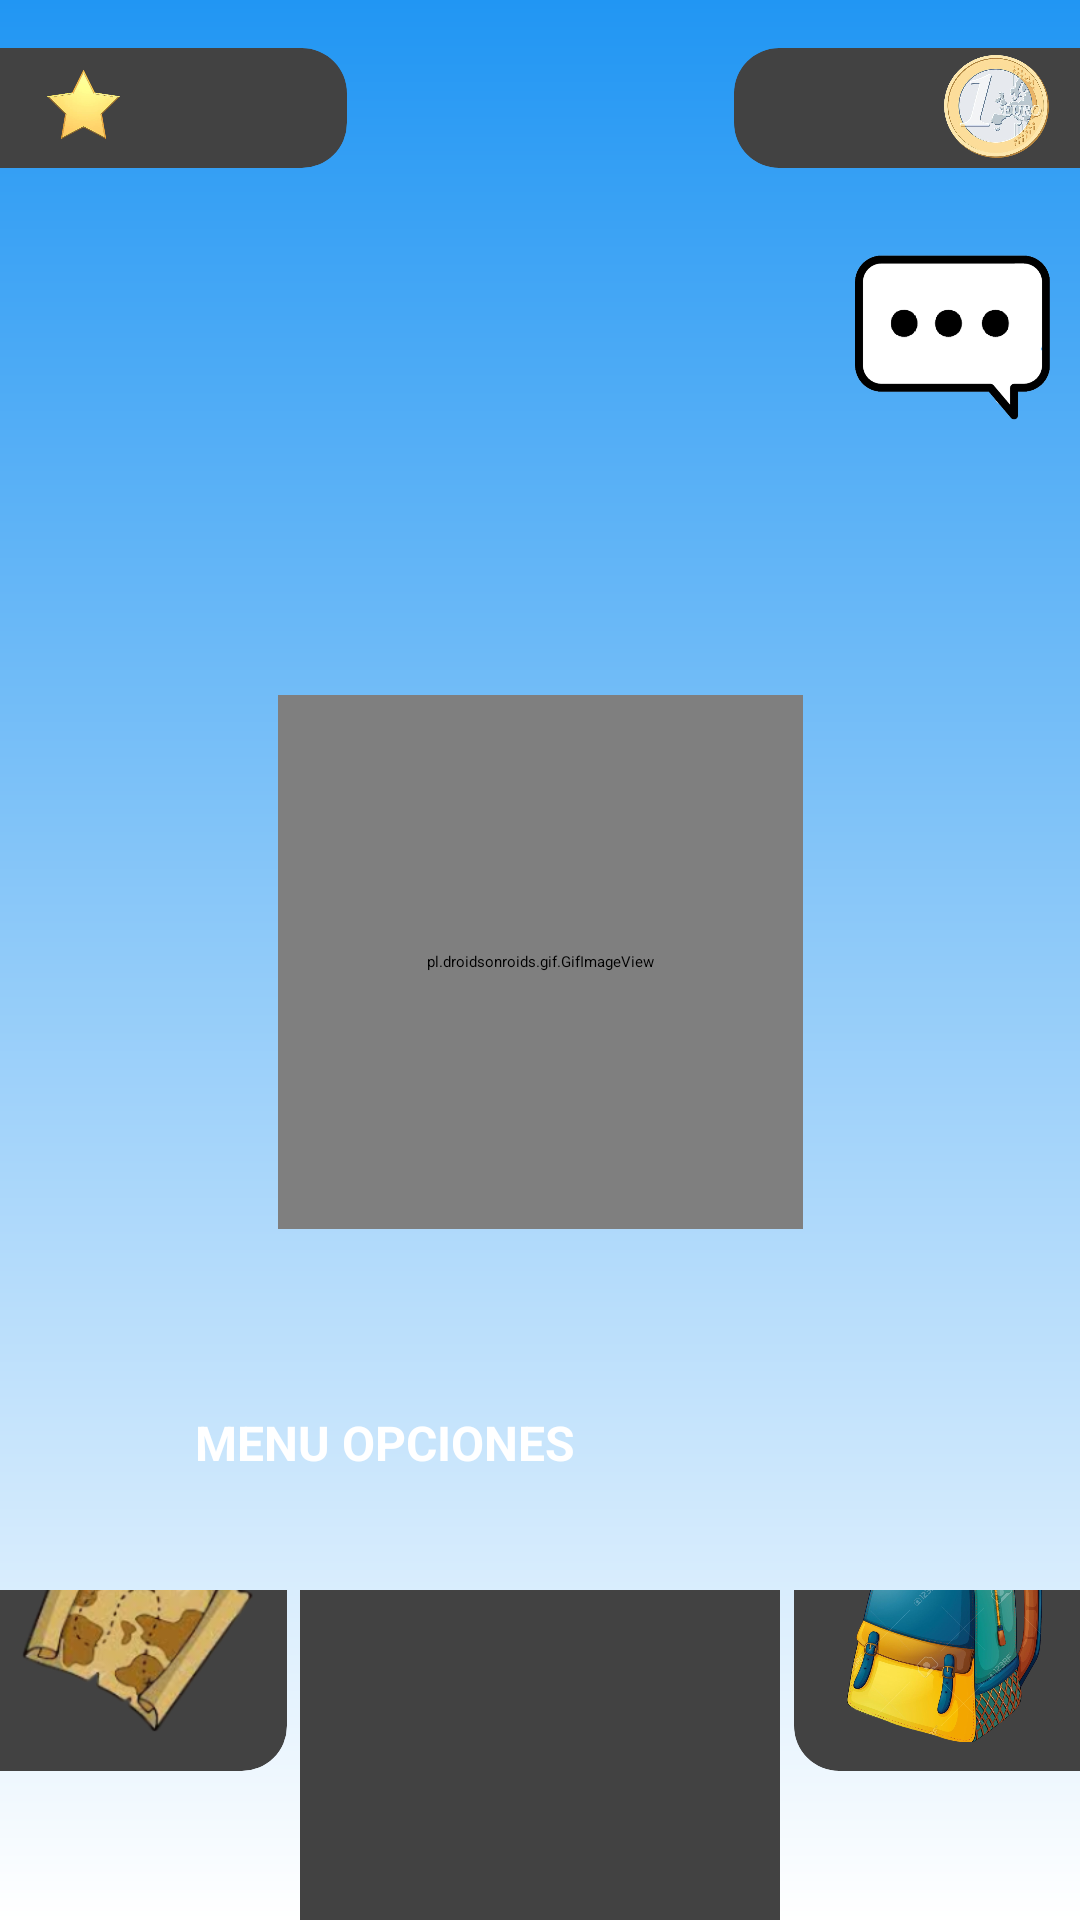

Icons on this 1080 x 1920 Android screen, each with its box as bbox(x1, y1, x2, y2):
articulo moneda: bbox(944, 55, 1049, 158)
comunicacion: bbox(855, 255, 1050, 420)
